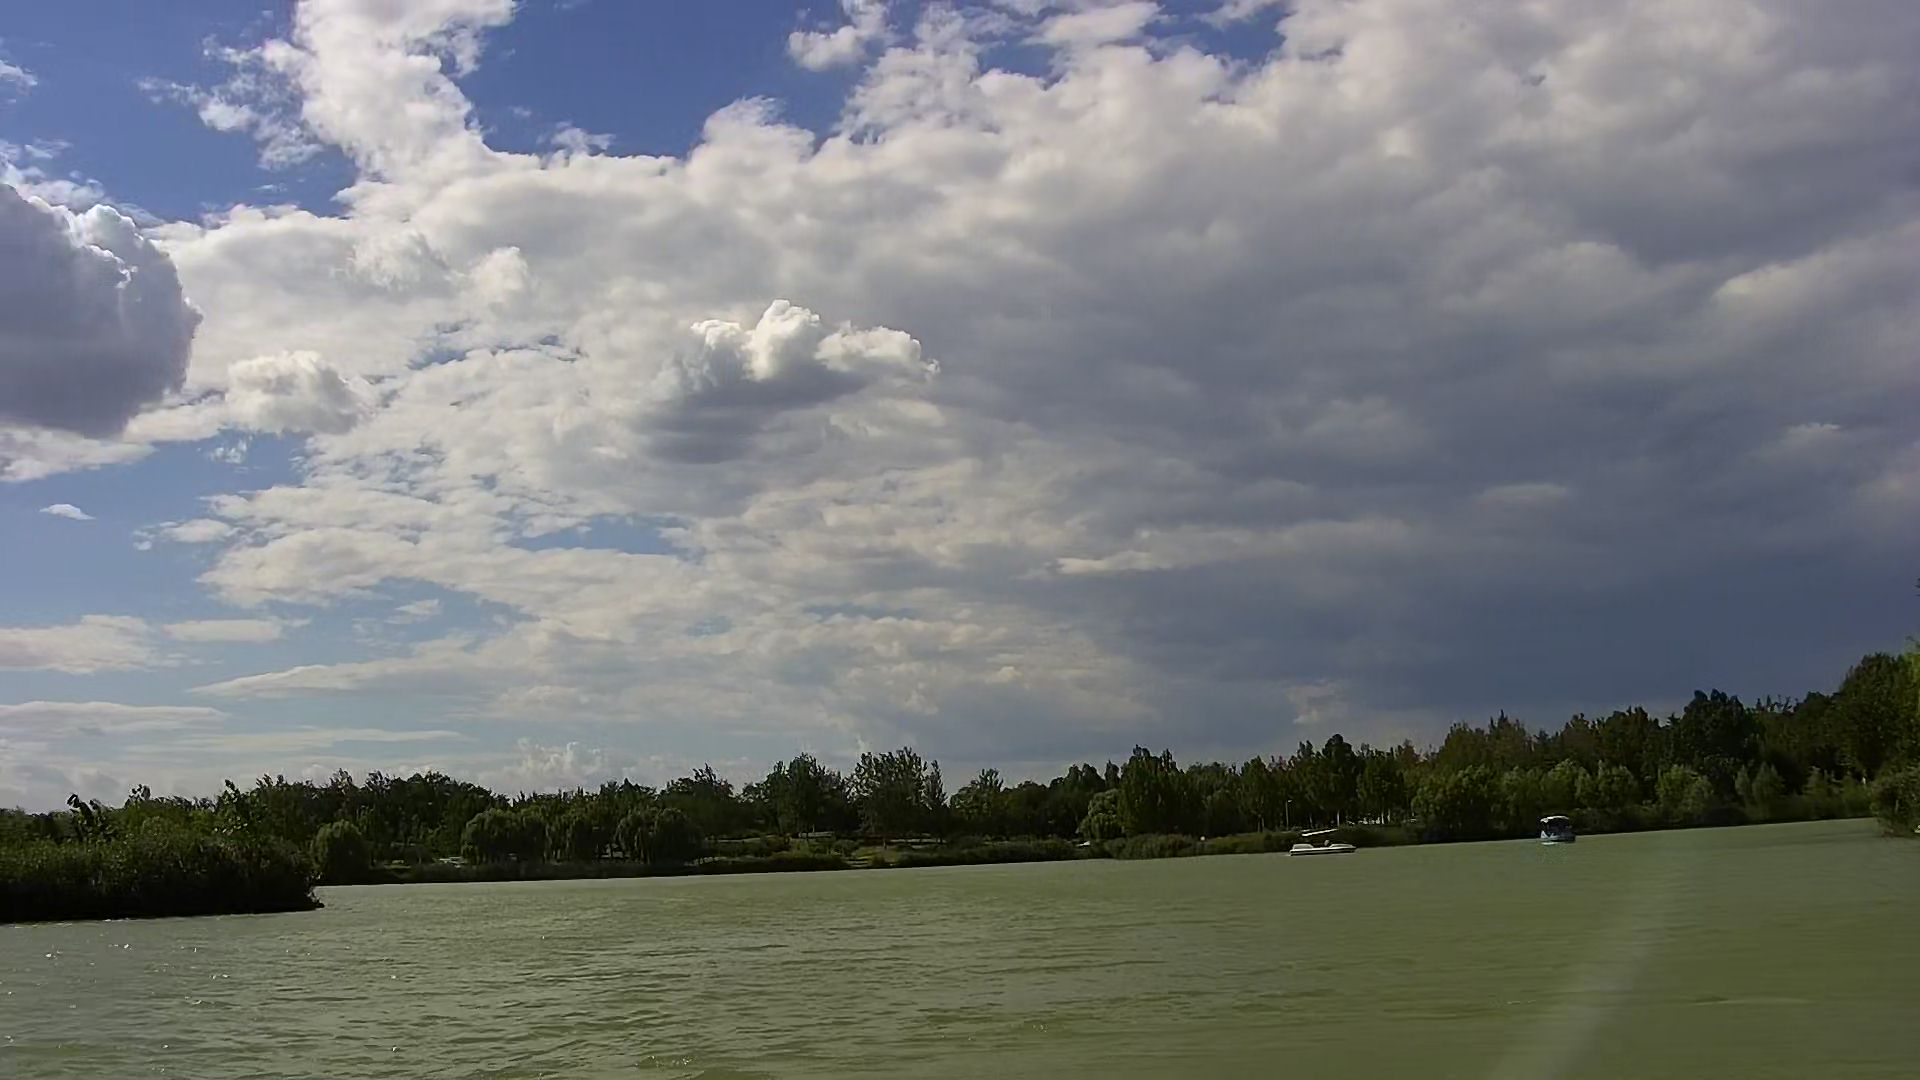boat: (1288, 827, 1356, 862), (1539, 811, 1578, 849)
